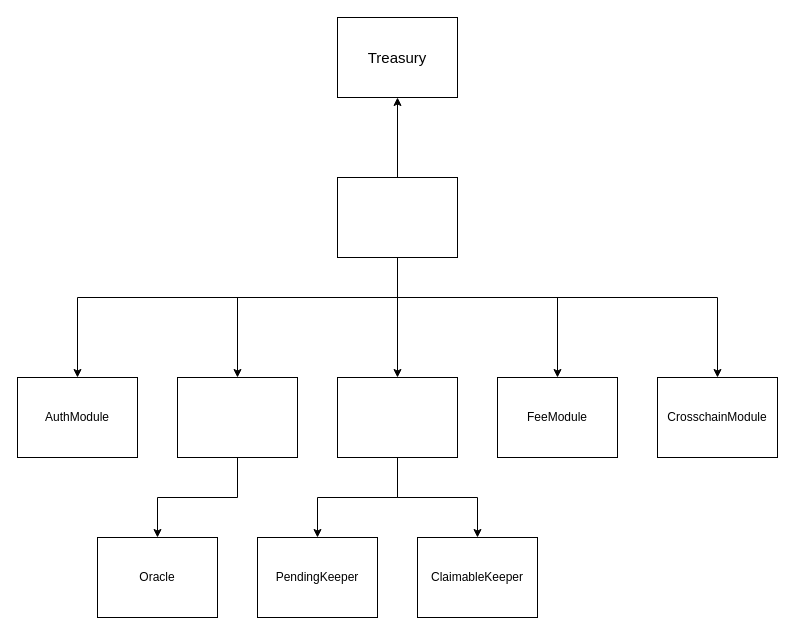
The diagram is 795 pixels wide and 635 high, and some of its shapes have lost their labels. The box of each missing label's shape, as (x1, y1, x2, y2) in pixels:
ERC4626: (336, 176, 458, 258)
ValuationModule: (176, 376, 298, 458)
WithdrawModule: (336, 376, 458, 458)
